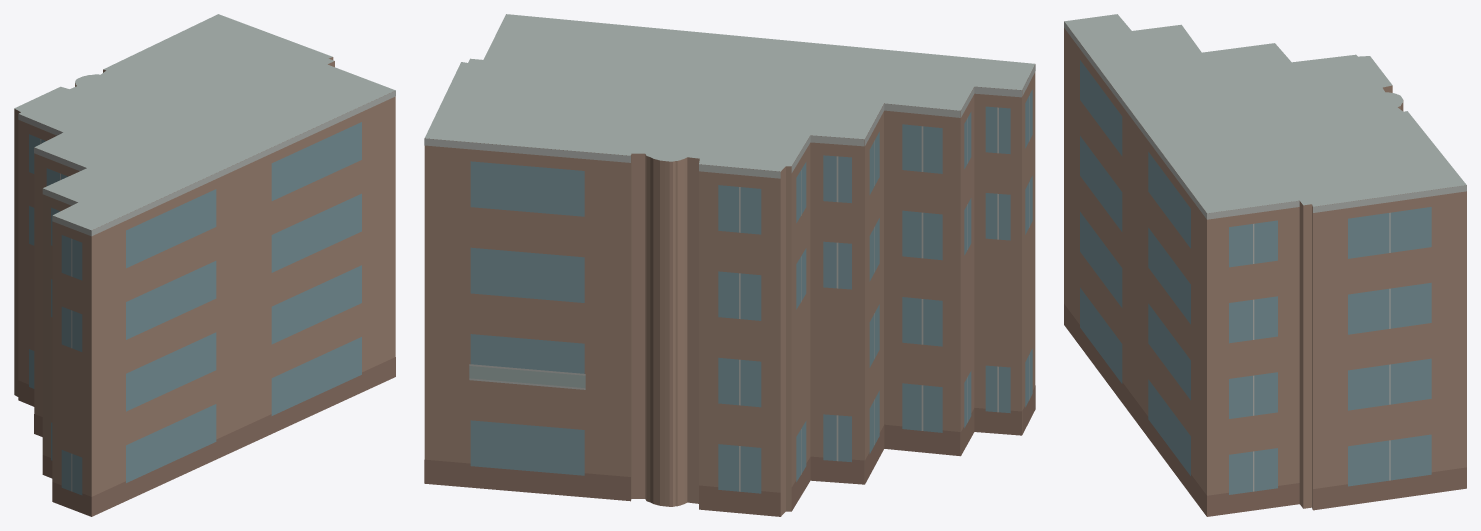
The model's file is survey-upis-32755910.glb.
3 renders of one model, left to right at view 1: azimuth 30°, elevation 25°; view 2: azimuth 150°, elevation 25°; view 3: azimuth 270°, elevation 25°, orthographic. The views are drawn at different scales.
Parts seen in each view (by area): view 1: survey-upis-32755910.tmp; view 2: survey-upis-32755910.tmp; view 3: survey-upis-32755910.tmp.
Boxes of the visible parts, x1,y1,x2,y2 form: survey-upis-32755910.tmp: [14, 14, 395, 516]; survey-upis-32755910.tmp: [424, 14, 1035, 516]; survey-upis-32755910.tmp: [1064, 14, 1466, 516].
Bounding box in the file's own units: 16.56 × 11.75 × 14.14.
